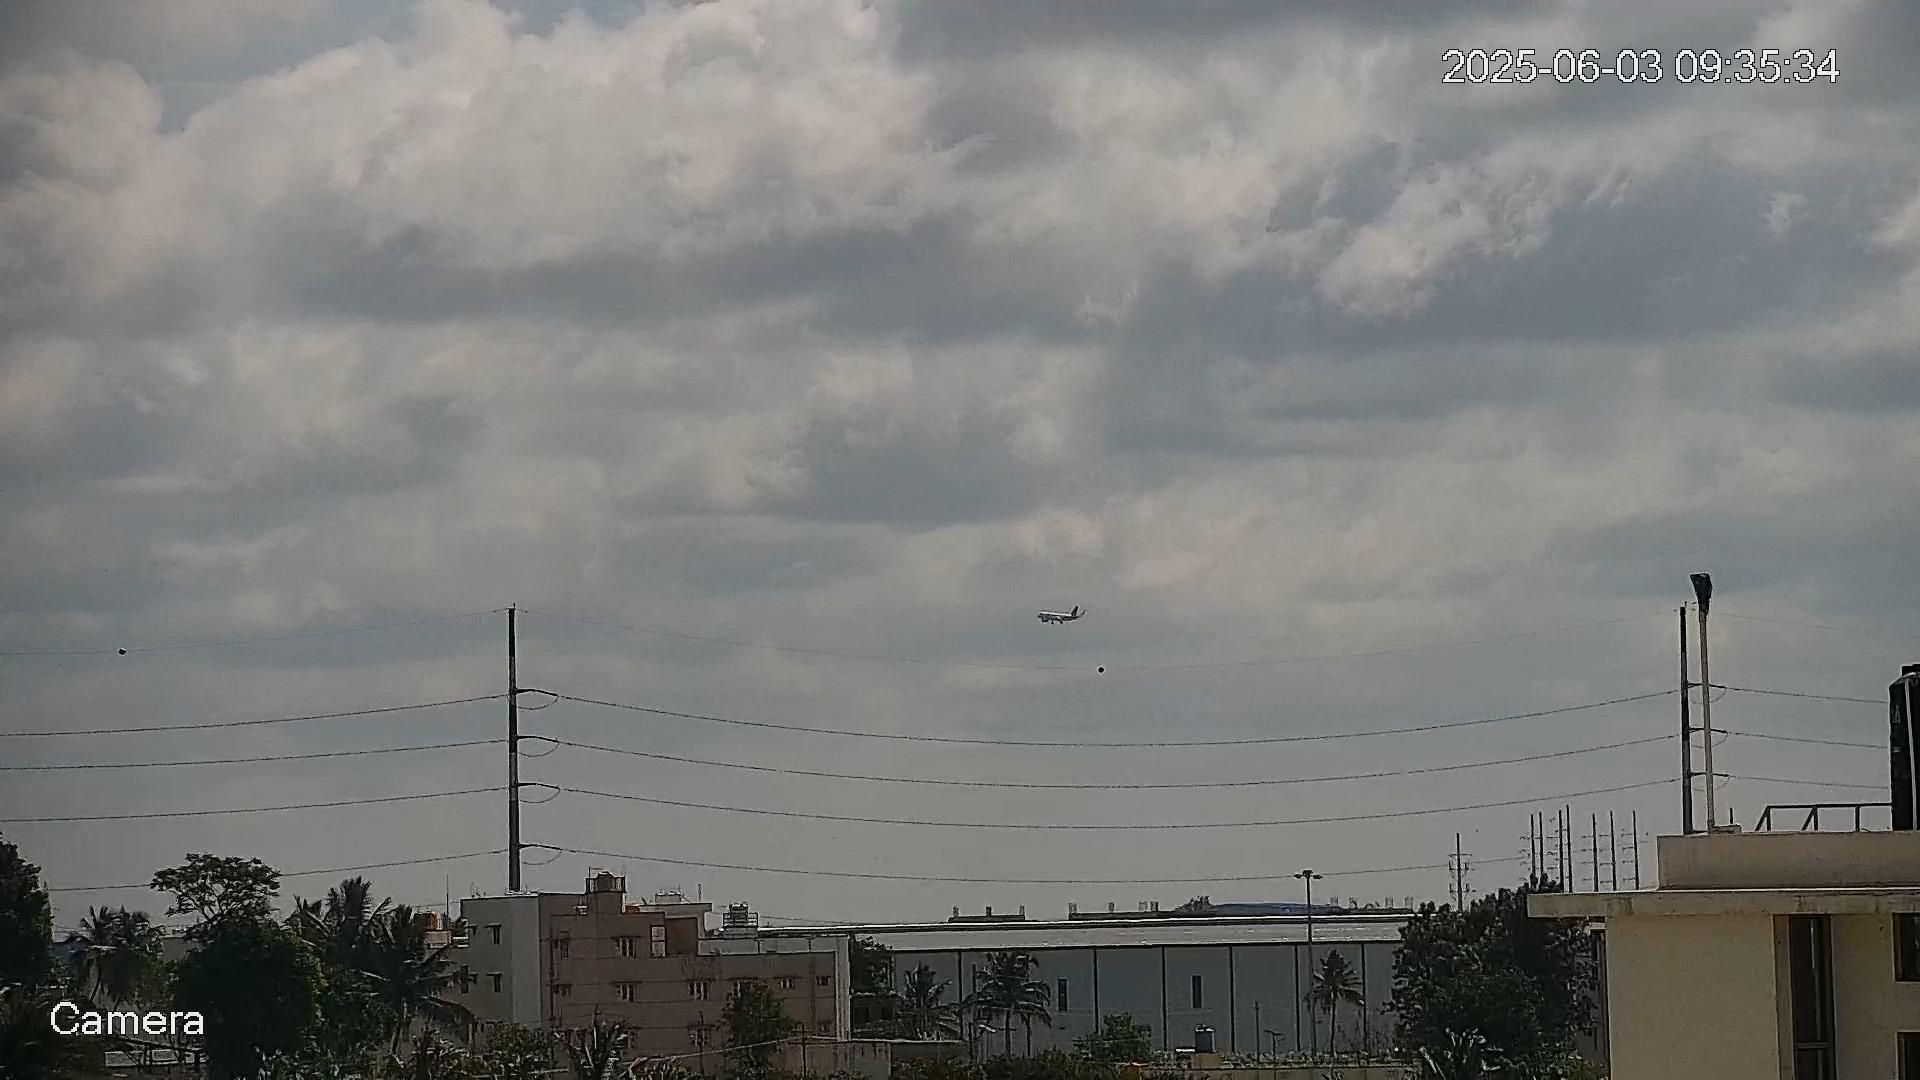Aircraft: (1036, 604, 1087, 625)
